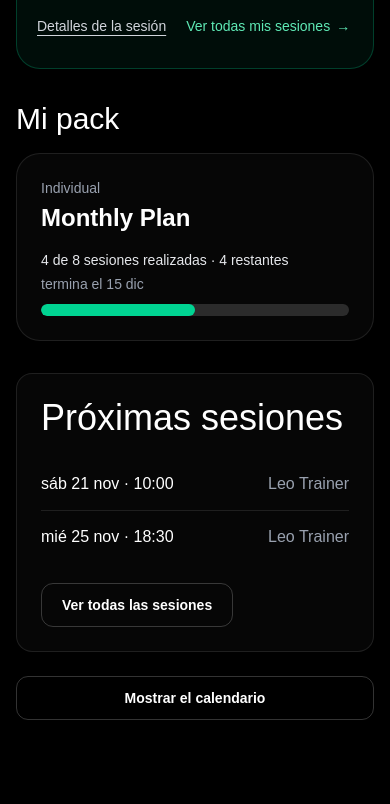
Test case: upcoming sessions and the calendar › a phone keeps the calendar closed until it is asked for; the button says so and is reachable
(page scrolled)
Click the button "Mostrar el calendario": [195, 698] box [16, 676, 374, 720]
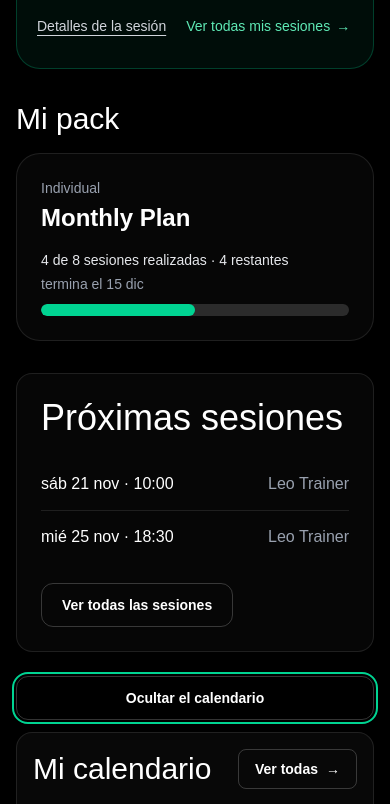
Result: the button "Ocultar el calendario" is expanded at [16, 676, 374, 720]
